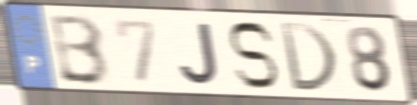7: (110, 16, 159, 86)
8: (344, 23, 394, 95)
B: (49, 12, 113, 88)
D: (276, 19, 340, 94)
J: (177, 20, 221, 88)
S: (225, 19, 281, 92)
